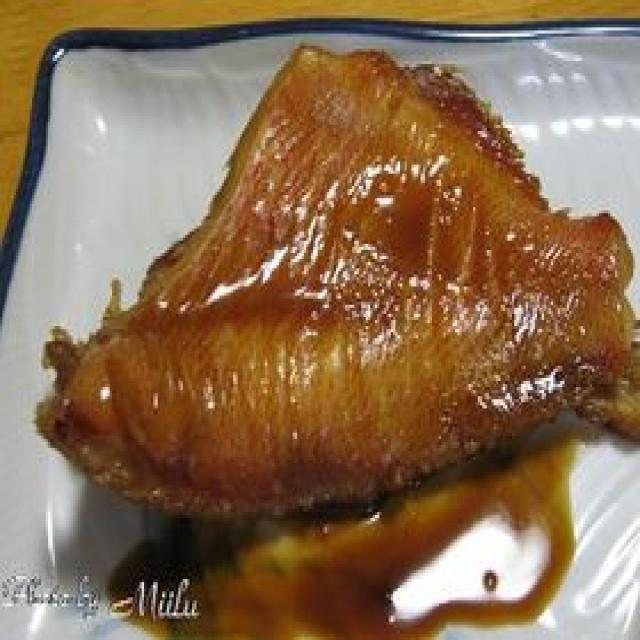熟制海鲜: (0, 21, 640, 561)
